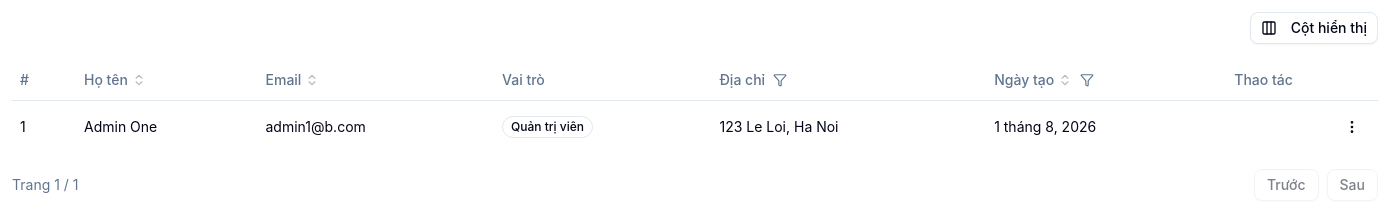
Test: AdminsTable › hides edit/delete/demote actions when canManage is false
Click the button named "Thao tác": (1352, 126) [1334,108,1370,144]
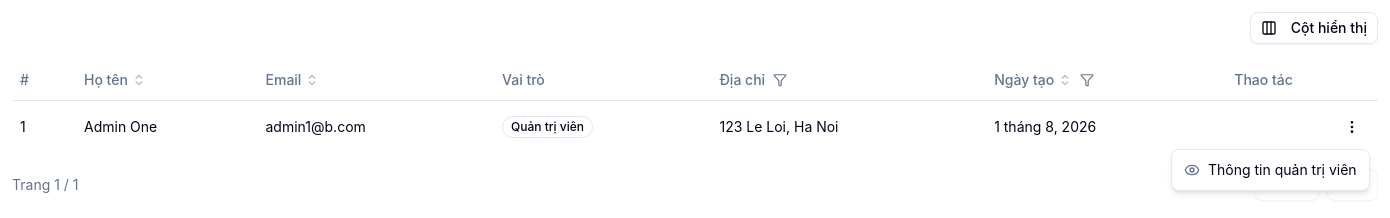
Expected: the menu item "Thông tin quản trị viên" is shown, [1184,161,1357,178]
